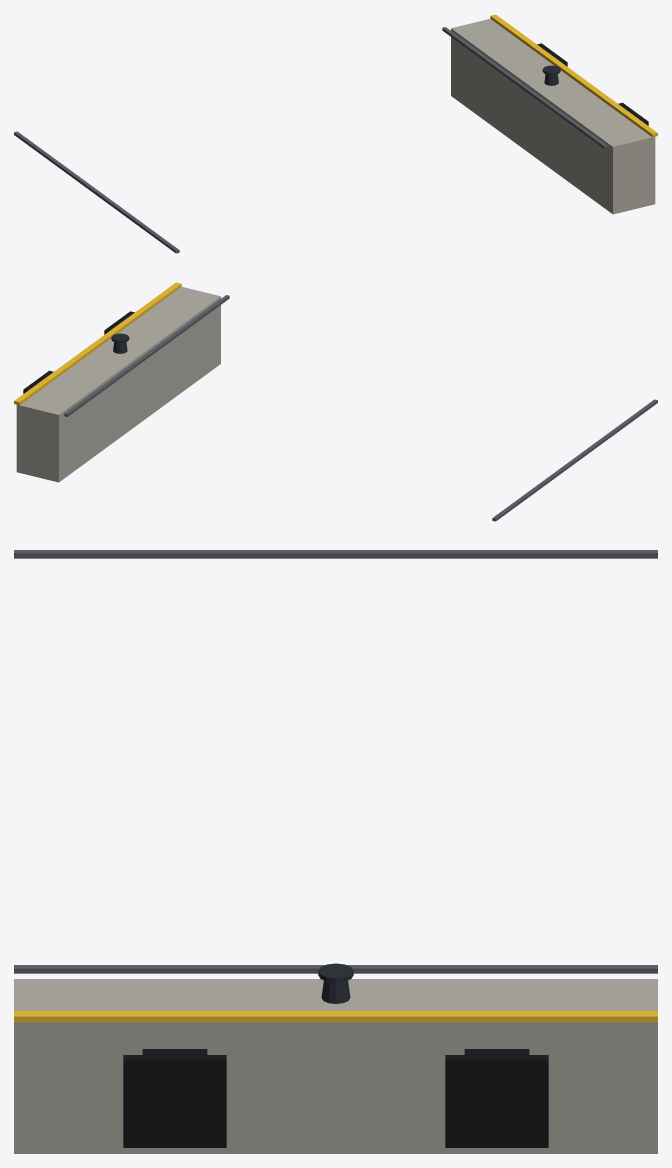
File: quay_edge_20m.glb
The picture shows the model from 3 angles, top to bottom: view 1: azimuth 30°, elevation 25°; view 2: azimuth 150°, elevation 25°; view 3: azimuth 270°, elevation 25°; orthographic projection. The views are drawn at different scales.
Parts seen in each view (by area): view 1: quayedge; view 2: quayedge; view 3: quayedge.
Boxes of the visible parts, x1,y1,x2,y2 form: quayedge: (14,14,657,253); quayedge: (14,282,657,521); quayedge: (14,550,657,1153).
Size of the model in its own units: 35.62 by 5.52 by 20.
